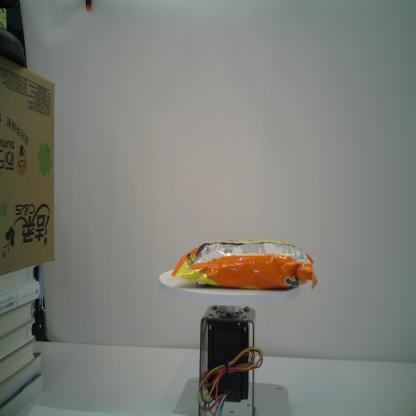Instant Noodles: (170, 237, 319, 291)
